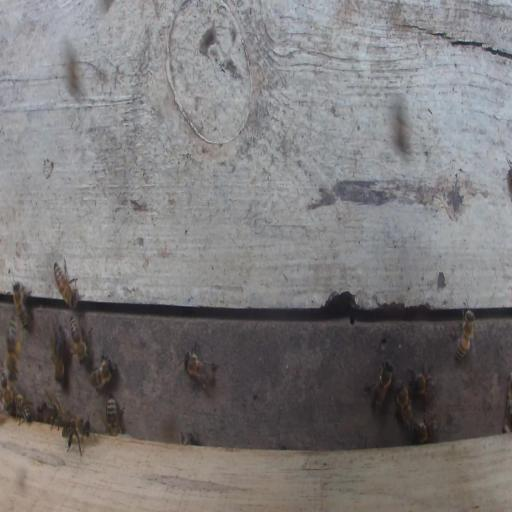bee: (183, 341, 216, 392), (367, 360, 394, 412), (53, 257, 80, 308), (62, 415, 88, 456), (394, 380, 415, 430), (12, 279, 32, 330), (455, 310, 475, 361), (89, 354, 115, 393), (6, 315, 21, 381), (408, 367, 437, 400), (70, 316, 88, 364), (411, 413, 438, 443), (52, 324, 65, 385), (105, 396, 122, 437), (12, 393, 33, 425), (1, 370, 13, 412), (40, 401, 62, 419), (179, 431, 199, 445), (424, 401, 427, 402)
